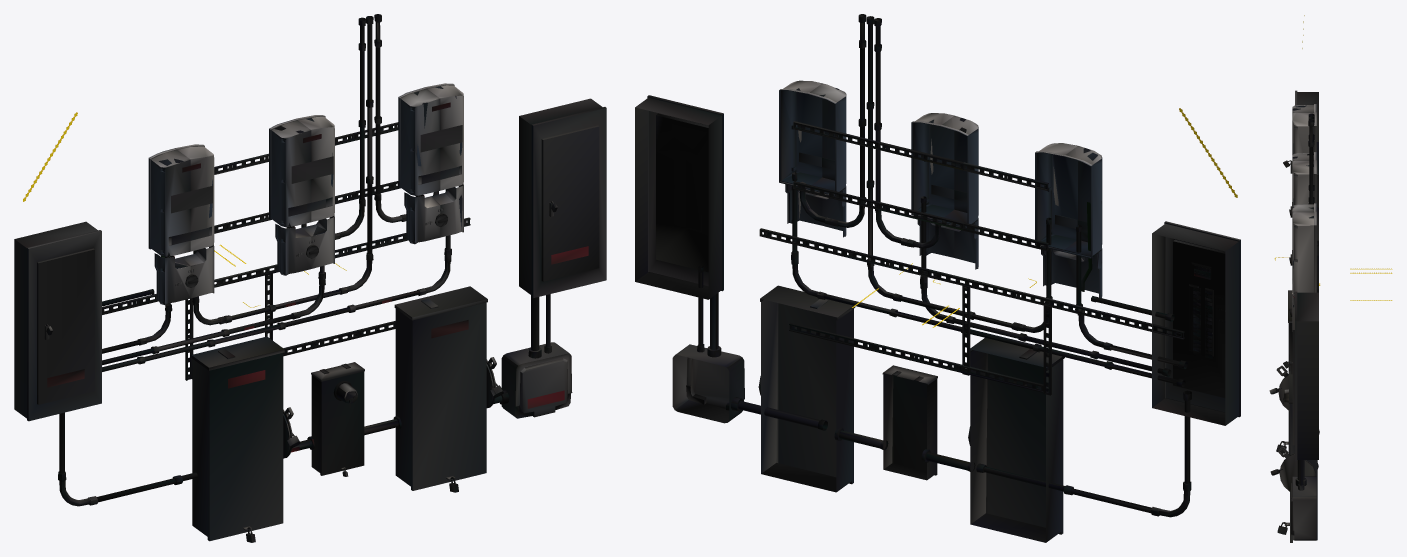
File: inverter.glb
The picture shows the model from 3 angles, left to right: view 1: azimuth 30°, elevation 25°; view 2: azimuth 150°, elevation 25°; view 3: azimuth 270°, elevation 25°; orthographic projection. The views are drawn at different scales.
Parts seen in each view (by area): view 1: body; view 2: body; view 3: body.
Part boxes in pixels (left/top/right/bottom): body: left=14, top=14, right=606, bottom=542; body: left=635, top=14, right=1240, bottom=542; body: left=1269, top=15, right=1392, bottom=542.
Bounding box in the file's own units: 2.79 × 2.2 × 0.6303.
Materials: 2 (1 with a texture image).
